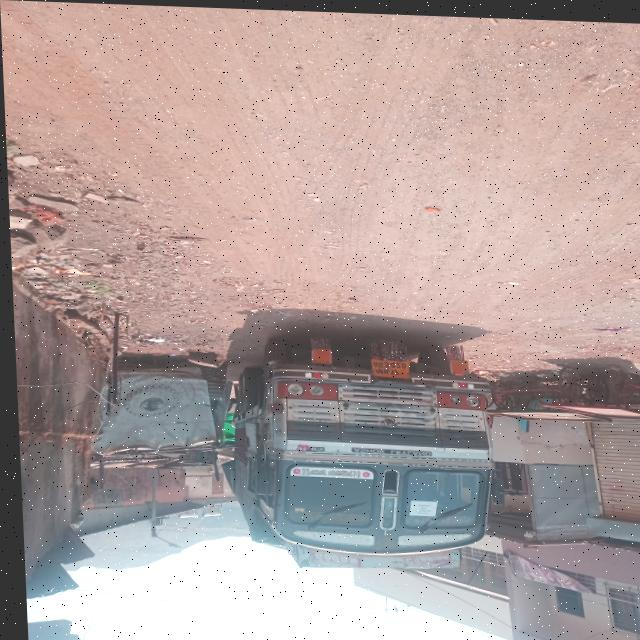plate: (367, 355, 408, 376)
